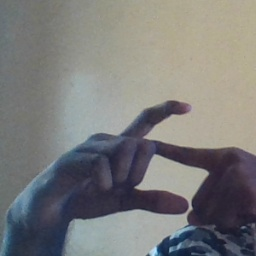E: (110, 96, 216, 226)
